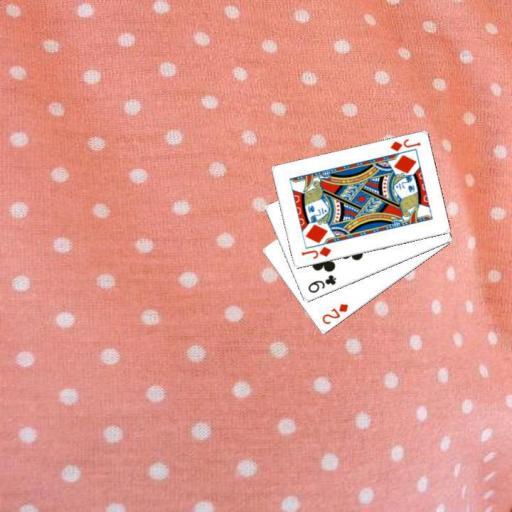2D: (318, 301, 350, 326)
9C: (304, 272, 338, 295)
JD: (298, 243, 333, 260), (387, 136, 422, 153)
